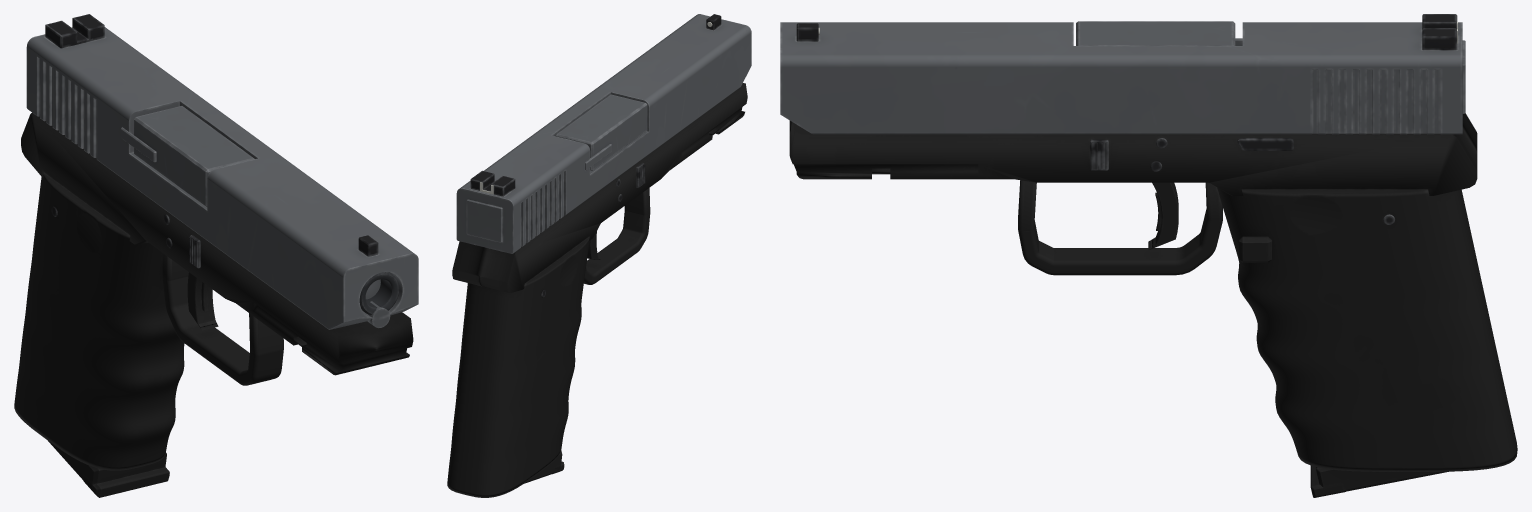
File: Glock17.fbx
The picture shows the model from 3 angles, left to right: view 1: azimuth 30°, elevation 25°; view 2: azimuth 150°, elevation 25°; view 3: azimuth 270°, elevation 25°; orthographic projection. The views are drawn at different scales.
Visible parts, largest first — view 1: Body, Slide, Mag, Trigger; view 2: Body, Slide, Mag; view 3: Body, Slide, Mag, Trigger.
Boxes of the visible parts, box(x1,y1,x2,y2) form: Body: box(14, 106, 413, 470); Slide: box(26, 14, 418, 329); Mag: box(48, 441, 169, 497); Trigger: box(187, 272, 218, 330); Body: box(447, 83, 747, 497); Slide: box(456, 14, 751, 253); Mag: box(524, 450, 564, 483); Body: box(789, 21, 1517, 471); Slide: box(780, 14, 1465, 134); Mag: box(1310, 465, 1448, 497); Trigger: box(1148, 182, 1178, 249).
Size of the model in its own units: 0.0309 by 0.1367 by 0.201.
